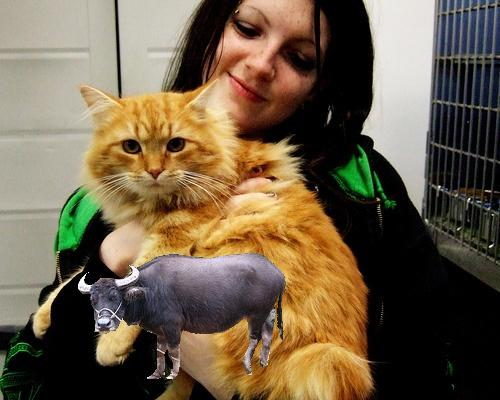tampered: (79, 254, 286, 379)
